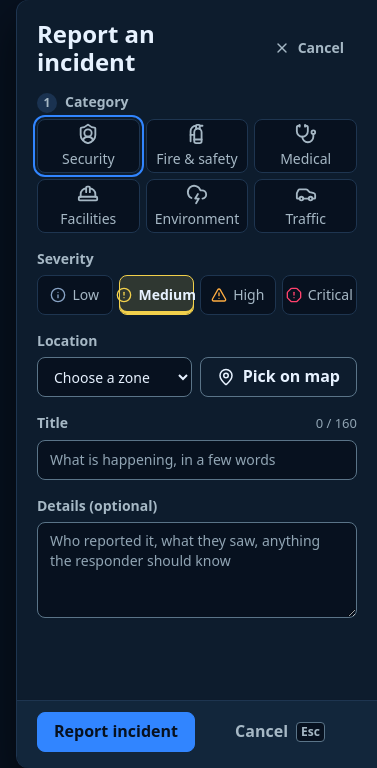
Test: ReportIncidentForm › shows the server's message and keeps the input
Click the radio button labelled "Medical": click(306, 146) x1=254 y1=119 x2=357 y2=173
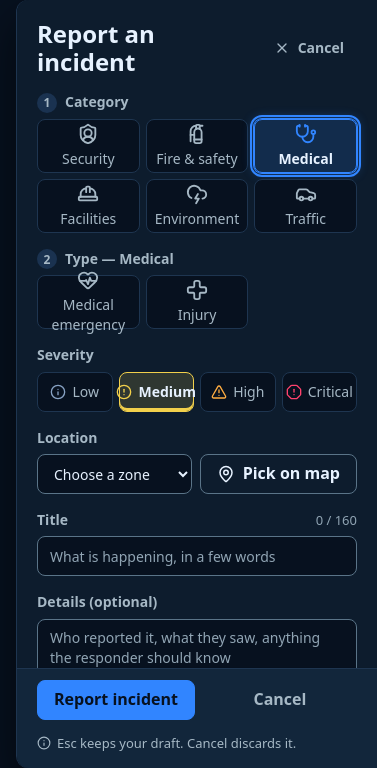
Click the radio button labelled "Medical emergency": click(88, 302) x1=37 y1=275 x2=140 y2=329
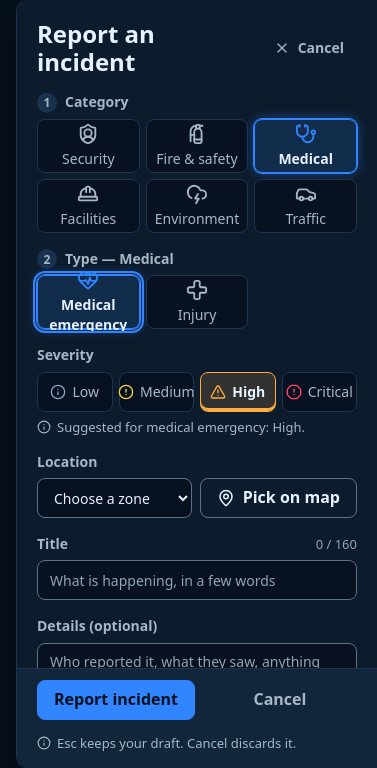
Click the radio button labelled "High": click(238, 392) x1=200 y1=372 x2=276 y2=412
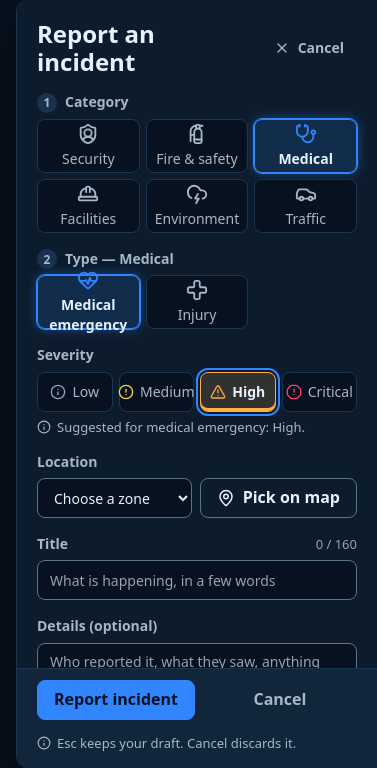
Select "Library" in the dropdown labelled "Location": (114, 498) x1=37 y1=478 x2=192 y2=518
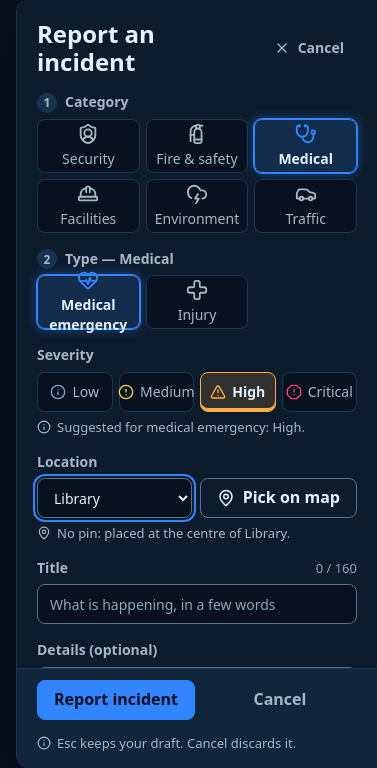
In the field labelled "Title": (197, 604) x1=37 y1=584 x2=357 y2=624, type "  Person down at entrance "
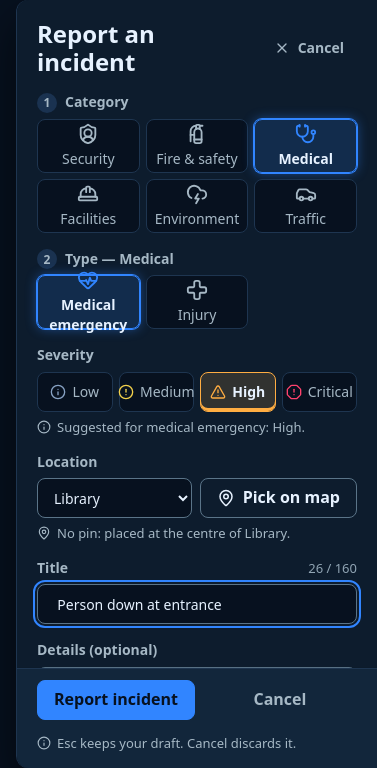
Click the button "Report incident": click(116, 700) x1=37 y1=680 x2=195 y2=720
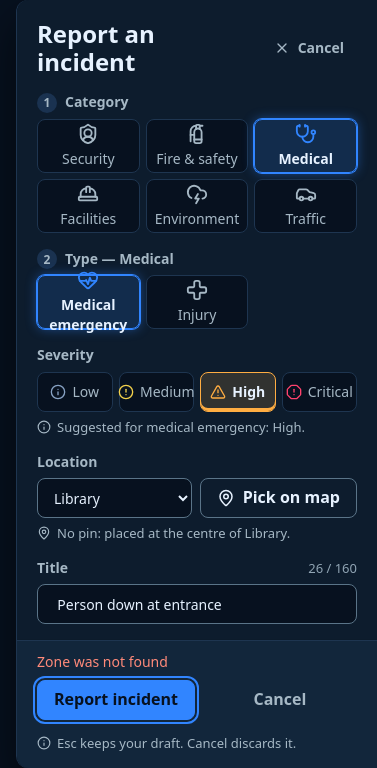
Now the message reads "Zone was not found", box x1=37 y1=652 x2=168 y2=671
